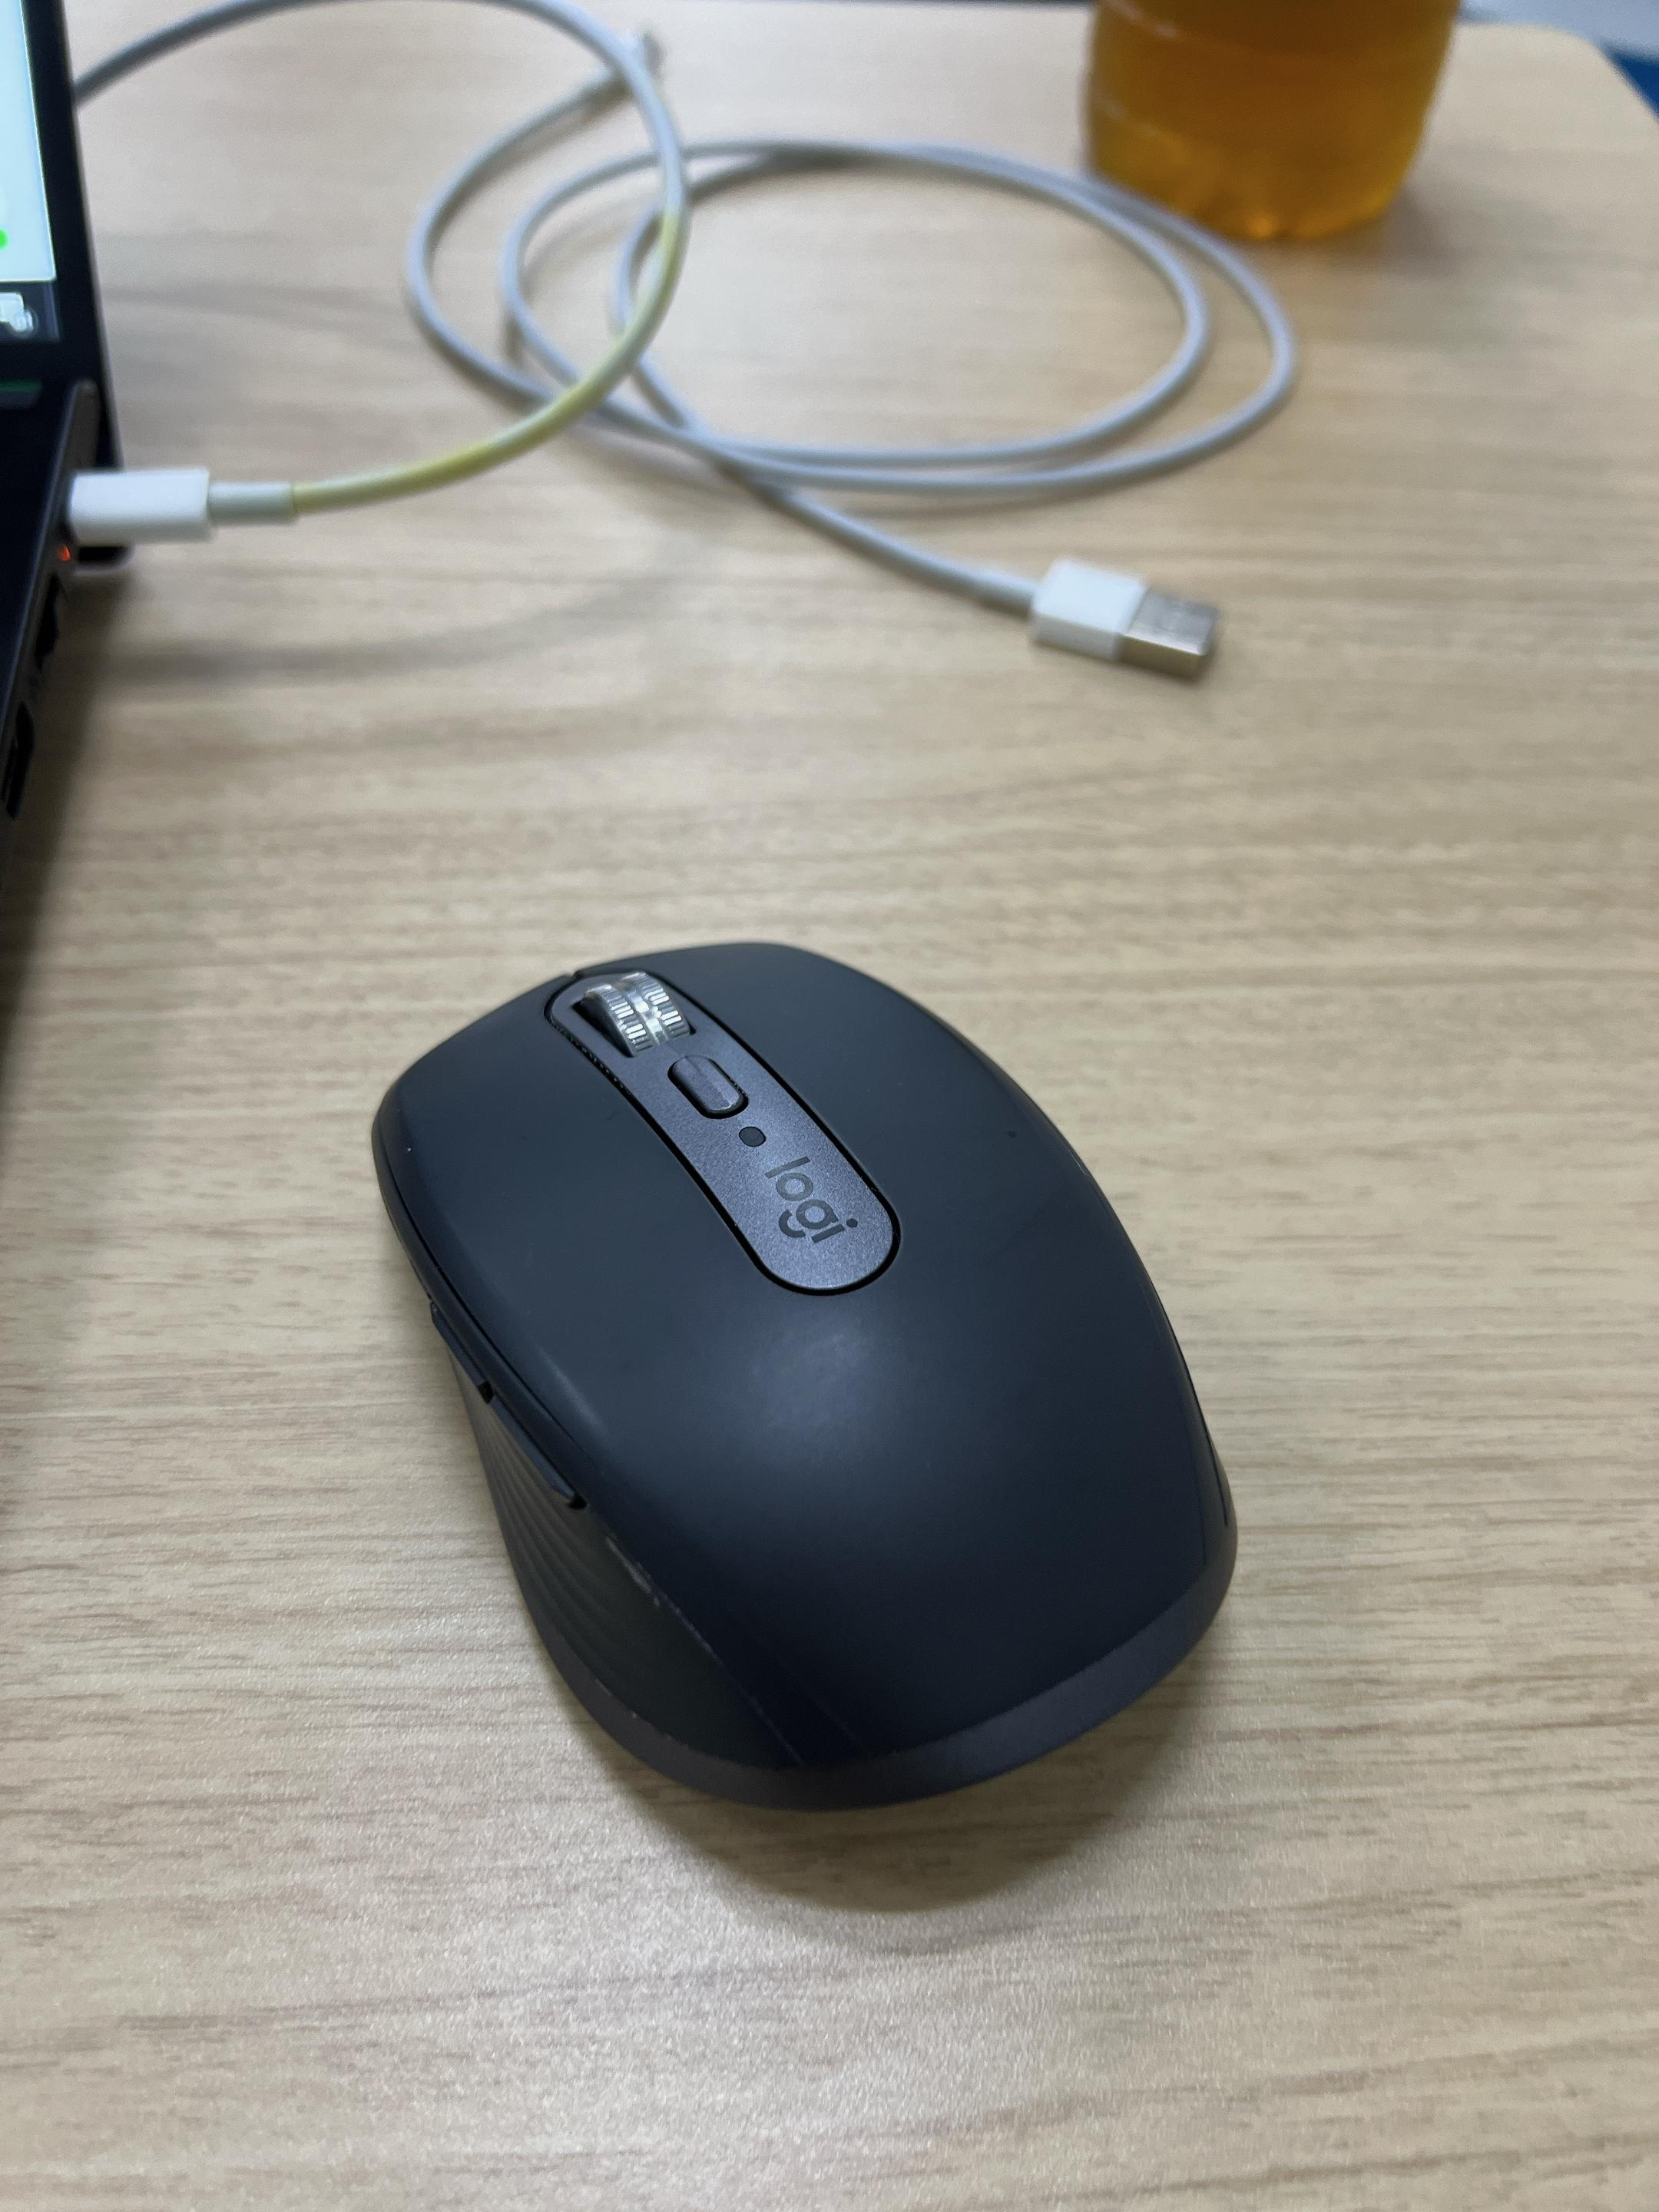mouse: (286, 930, 1361, 1838)
